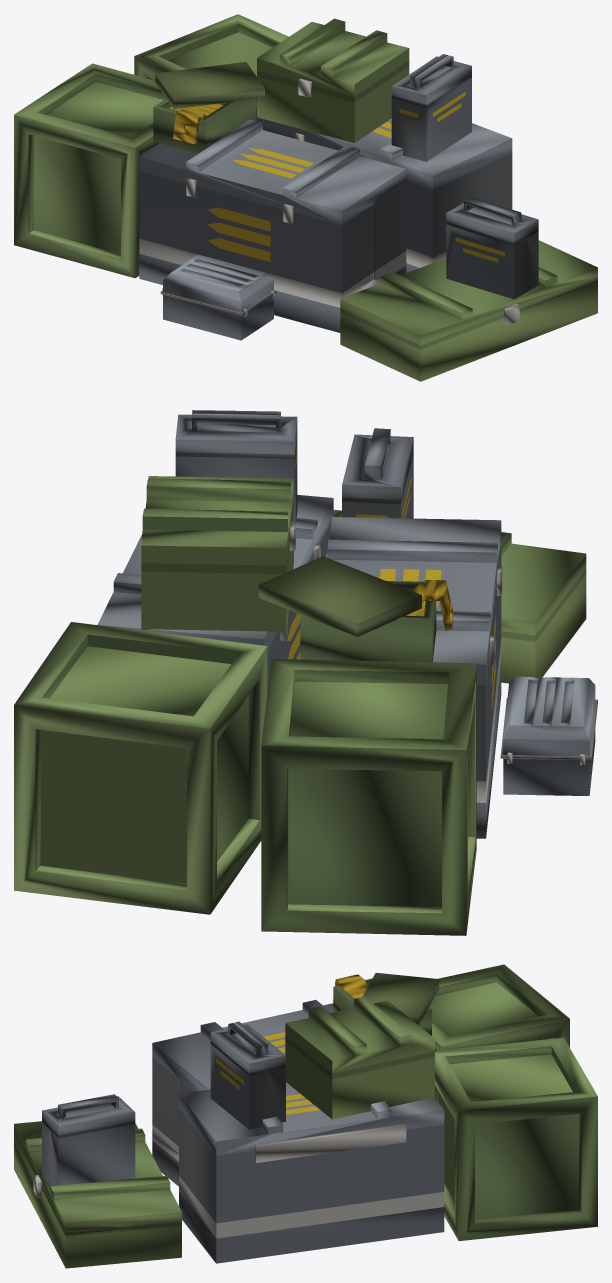
The model's file is apoc_prop_93.glb.
3 views of the same model, one above another, from view 1: azimuth 30°, elevation 25°; view 2: azimuth 150°, elevation 25°; view 3: azimuth 270°, elevation 25° (orthographic). The views are drawn at different scales.
Visible parts, largest first — view 1: prop_095; view 2: prop_095; view 3: prop_095.
Part boxes in pixels (x1,y1,x2,y2): prop_095: (14,14,597,381); prop_095: (14,410,597,935); prop_095: (14,964,597,1268).
Size of the model in its own units: 0.5363 by 0.2839 by 0.7455.
1 material, 1 textured.
